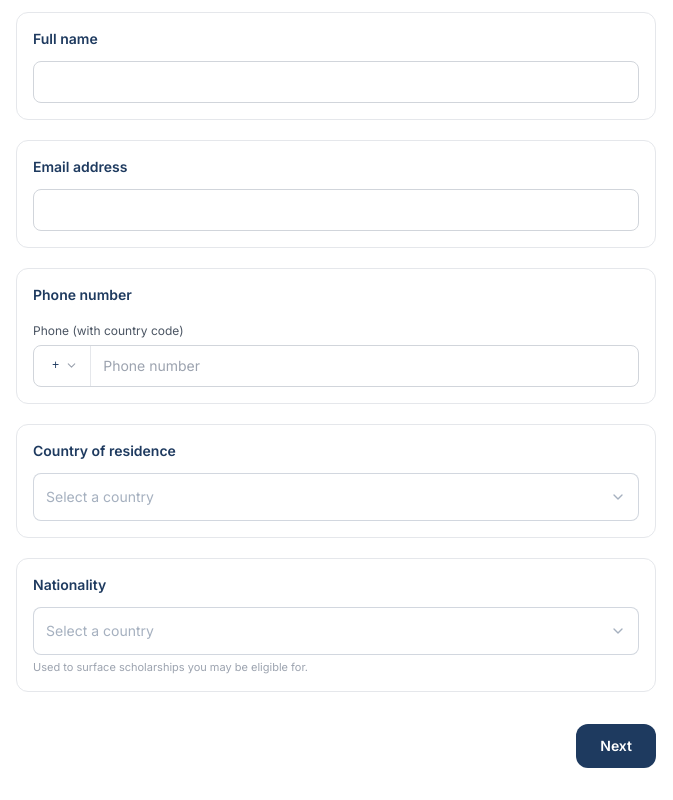
Test: 1. Next is gated on the current step › refuses to advance while a required answer is empty, and says which
(page scrolled)
Click the button "Next". click: click(616, 746)
box: top-left (576, 724), bottom-right (656, 768)
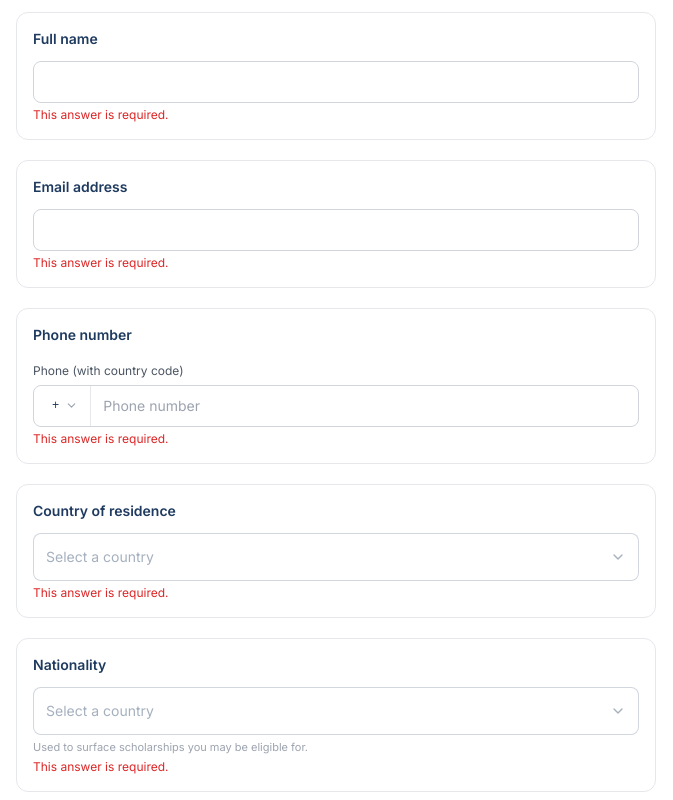
Check: the message with test id "error-full_name" is shown, box top-left (33, 106), bottom-right (168, 122)
Check: the message with test id "error-email" is shown, box top-left (33, 254), bottom-right (168, 270)
